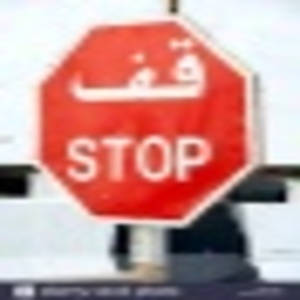stop: (36, 20, 252, 228)
